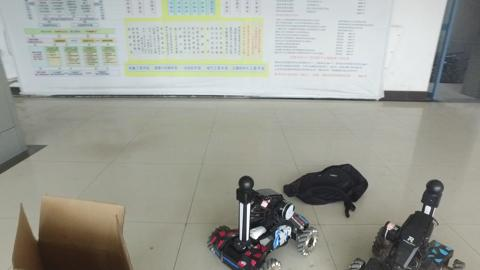bag: (287, 158, 369, 212)
chariot: (207, 176, 318, 270), (350, 179, 468, 267)
